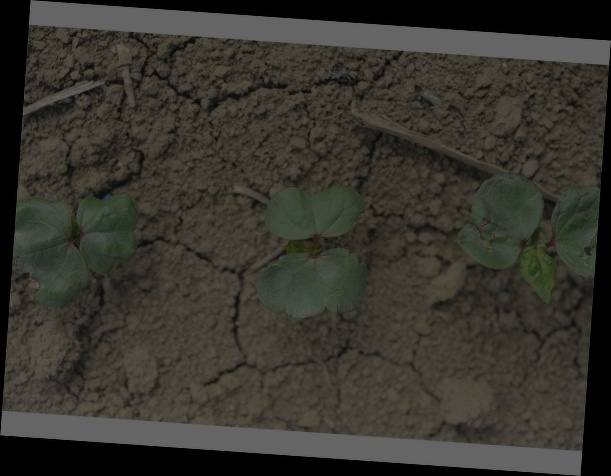cotton: (459, 174, 596, 303), (257, 181, 371, 320), (13, 190, 140, 311)
